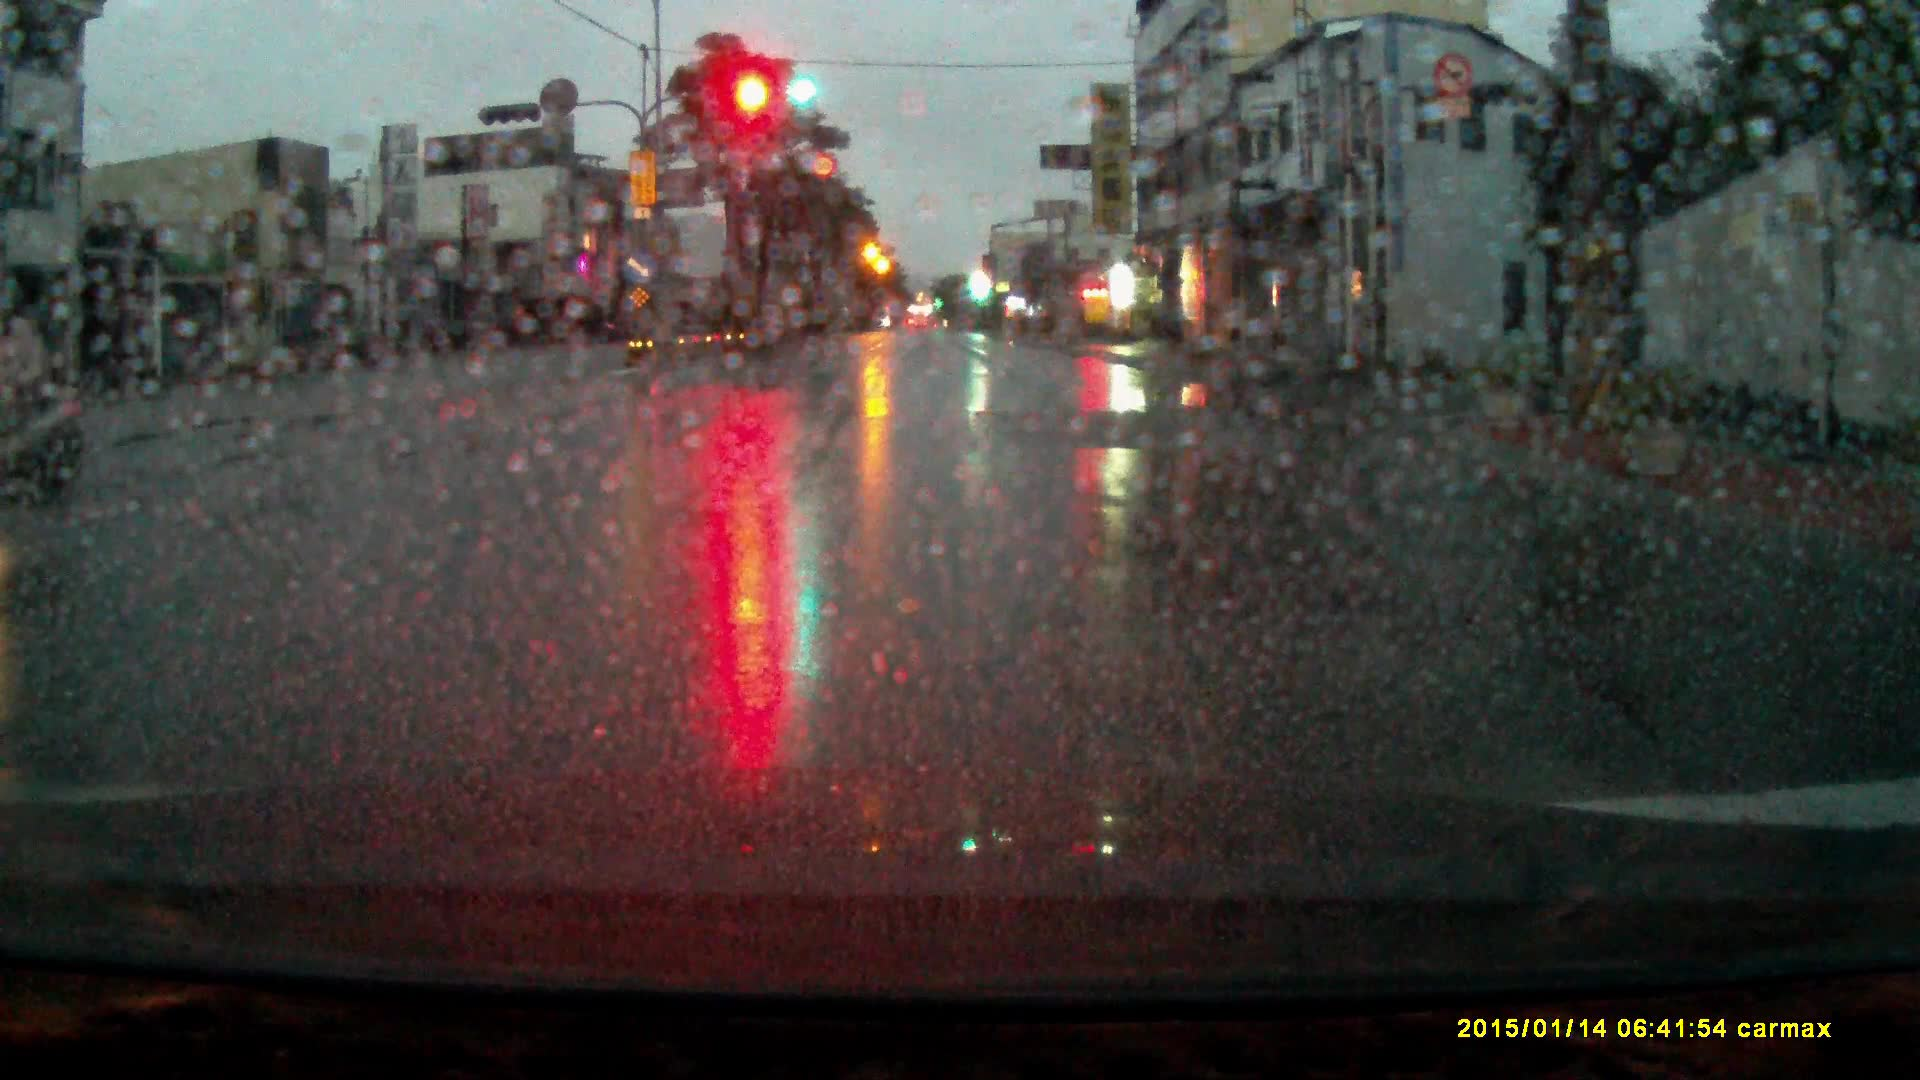rider: (1, 309, 95, 495)
